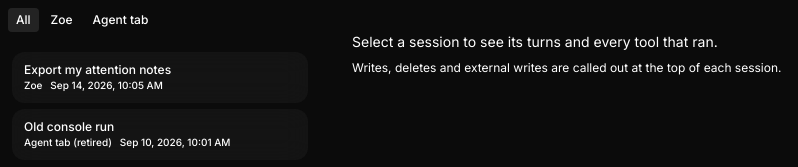
it: ActivityPanel › lists both kinds of session, labelled, and filters by kind
This screenshot has width=798, height=167.
Check: the text "Export my attention notes" is shown, box [24, 62, 171, 77]
Check: the text "Zoe" is shown, box [24, 78, 42, 93]
Click the tab "Zoe": (62, 20) [43, 8, 81, 32]
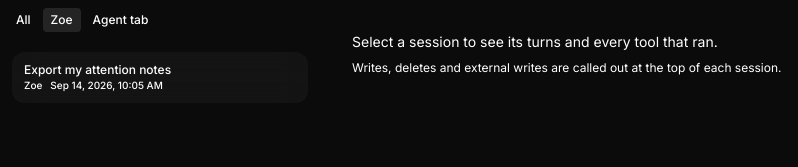
Check: the button "Old console run" is gone
